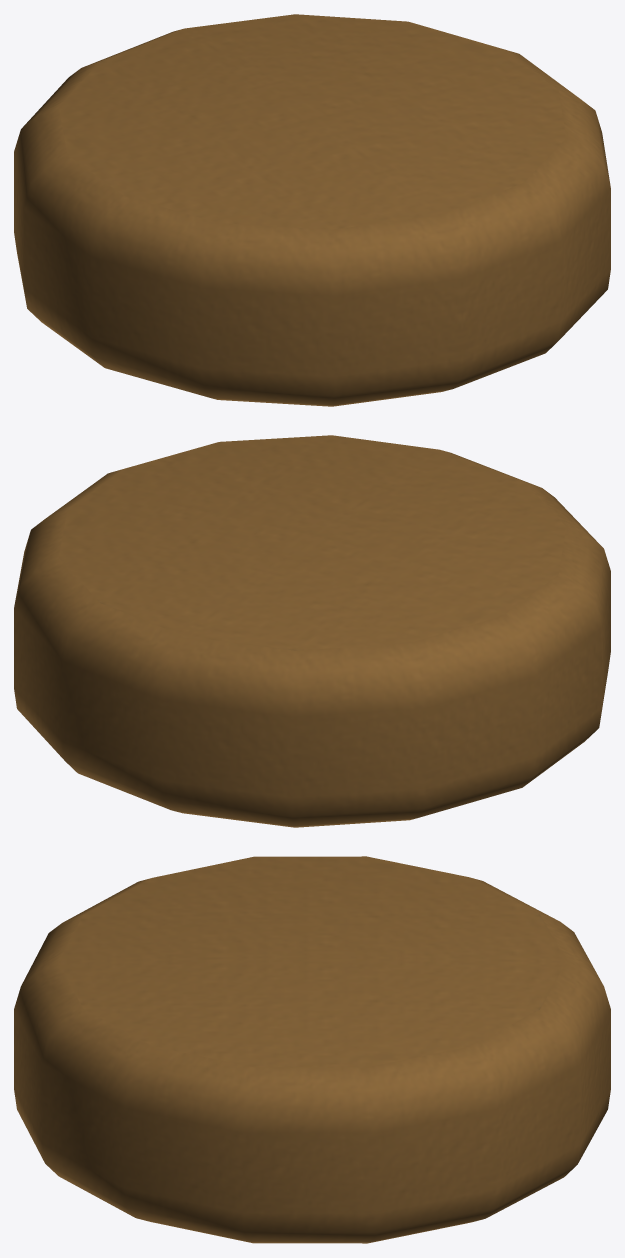
The model's file is Normal Sponge.fbx.
The picture shows the model from 3 angles, top to bottom: view 1: azimuth 30°, elevation 25°; view 2: azimuth 150°, elevation 25°; view 3: azimuth 270°, elevation 25°; orthographic projection.
Visible parts, largest first — view 1: Normal_Sponge; view 2: Normal_Sponge; view 3: Normal_Sponge.
Part boxes in pixels (x1,y1,x2,y2): Normal_Sponge: (14,14,610,406); Normal_Sponge: (14,435,610,827); Normal_Sponge: (14,856,610,1243).
Bounding box in the file's own units: 3.37 × 1.18 × 3.43.
